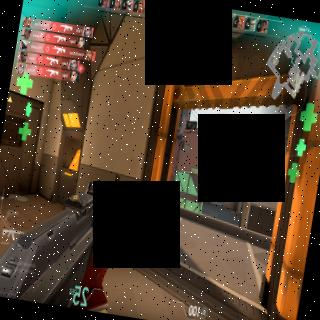ENEMY-BODY: (208, 189, 214, 206)
ENEMY-HEAD: (211, 189, 213, 192)
